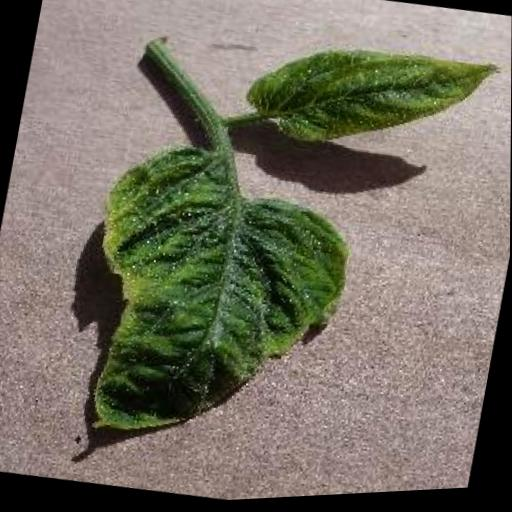Yellow Leaf Curl Virus: (64, 127, 365, 468), (237, 23, 500, 175)
